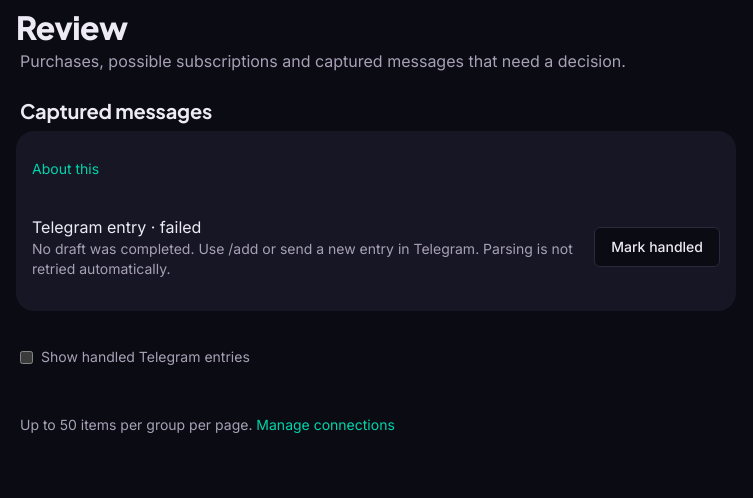
resolution failures retain the entry and show an error
Click the button "Mark handled" at (657, 247), box [594, 227, 720, 267]
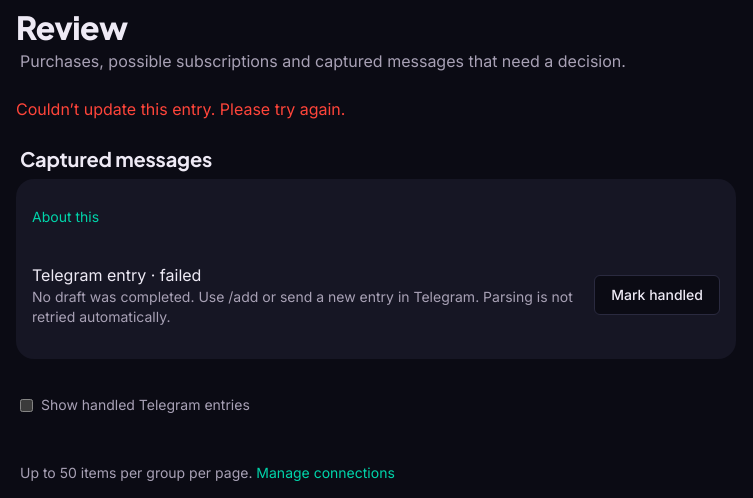
Expected: the button "Mark handled" is shown, [594, 275, 720, 315]
Now the message shows "Couldn’t update this entry.", box [16, 99, 345, 119]
